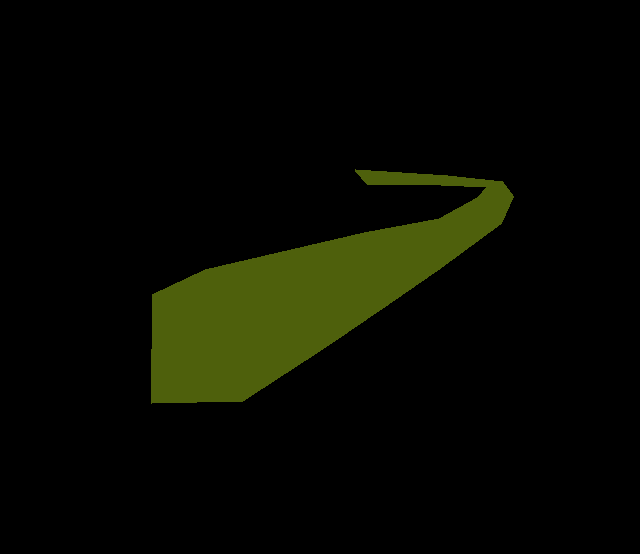Train: (151, 169, 514, 404)
